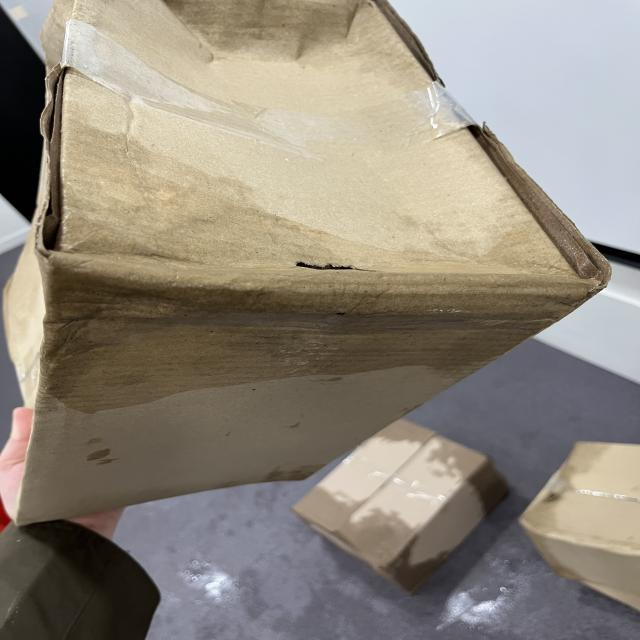hole: (0, 1, 74, 253)
wet: (42, 141, 590, 392)
